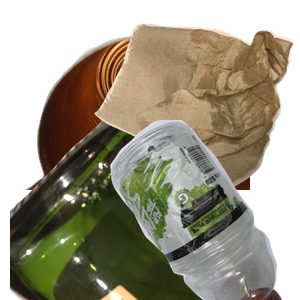glass: (10, 120, 250, 300)
metal: (21, 29, 261, 209)
plastic: (73, 120, 300, 300)
trash: (92, 21, 300, 201)
